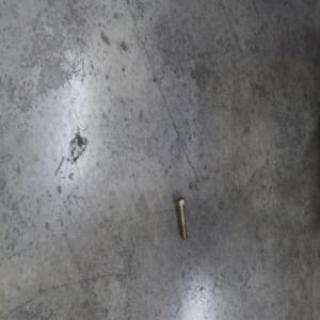Bolttrack_idkeyframe: (174, 195, 188, 241)
